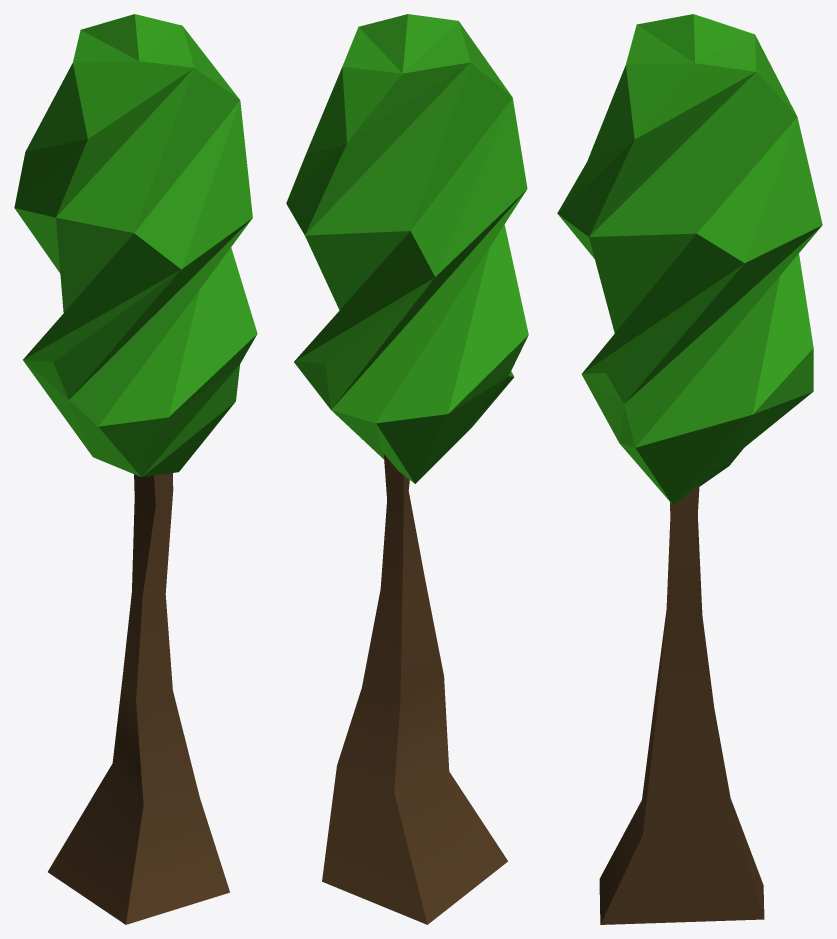
File: Low Poly Tree 2.FBX
3 views of the same model, side by side, from view 1: azimuth 30°, elevation 25°; view 2: azimuth 150°, elevation 25°; view 3: azimuth 270°, elevation 25° (orthographic). The views are drawn at different scales.
Visible parts, largest first — view 1: GeoSphere001, Box001; view 2: GeoSphere001, Box001; view 3: GeoSphere001, Box001.
Boxes of the visible parts, box(x1,y1,x2,y2) form: GeoSphere001: box(14, 14, 257, 477); Box001: box(48, 473, 229, 924); GeoSphere001: box(286, 14, 528, 483); Box001: box(322, 454, 507, 924); GeoSphere001: box(557, 14, 822, 504); Box001: box(599, 484, 764, 924).
Size of the model in its own units: 19.89 by 82.15 by 22.01.
Materials: 2 (2 with a texture image).
